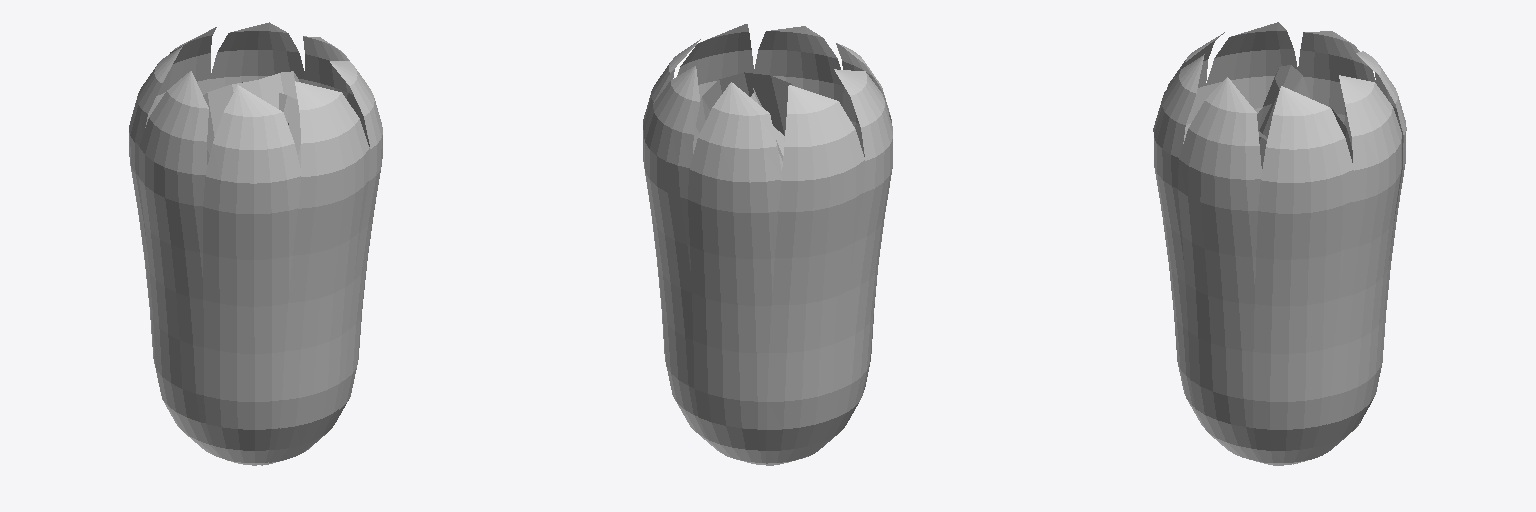
The model's file is FlowerTopModel_03_seq_0015.obj.
The picture shows the model from 3 angles: view 1: azimuth 30°, elevation 25°; view 2: azimuth 150°, elevation 25°; view 3: azimuth 270°, elevation 25°; orthographic projection.
Visible parts, largest first — view 1: FlowerTopModel_03; view 2: FlowerTopModel_03; view 3: FlowerTopModel_03.
Boxes of the visible parts, x1,y1,x2,y2 form: FlowerTopModel_03: [129, 22, 382, 465]; FlowerTopModel_03: [643, 24, 892, 465]; FlowerTopModel_03: [1153, 22, 1406, 465].
Size of the model in its own units: 203 by 358 by 203.